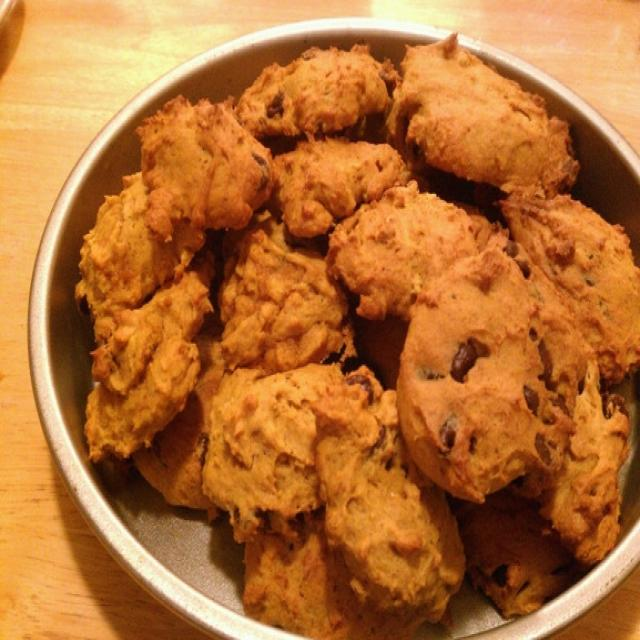面包点心: (36, 15, 634, 624)
